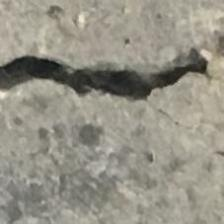Crack: (0, 33, 224, 121)
